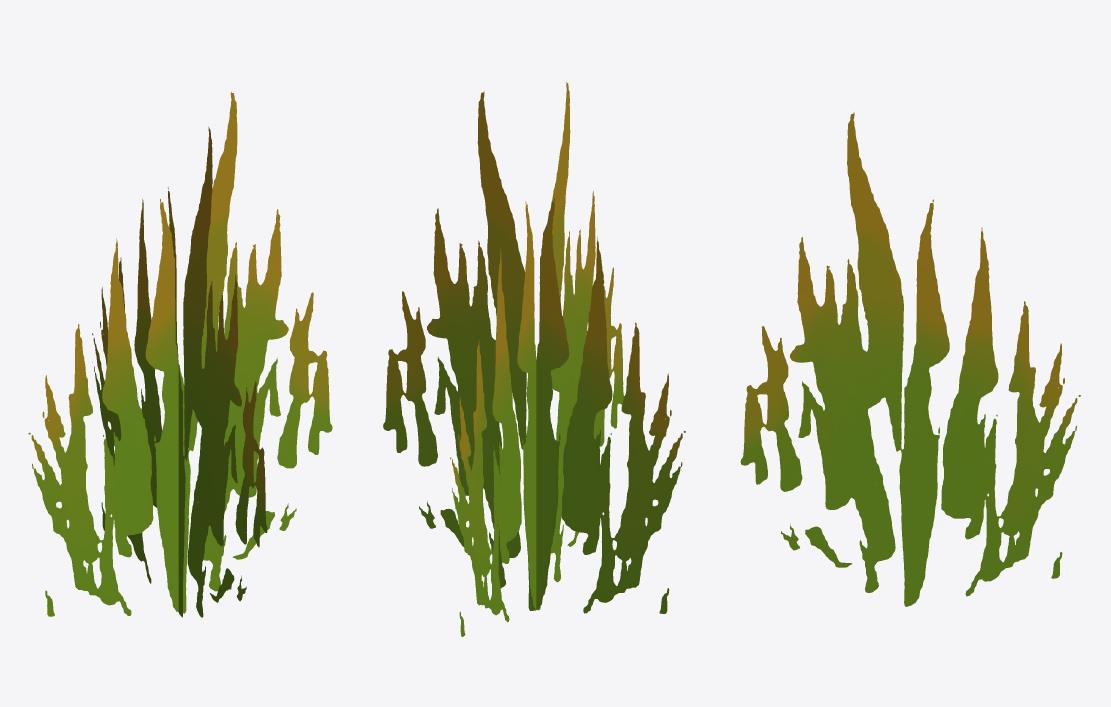
File: ForestGrass.fbx
The picture shows the model from 3 angles, left to right: view 1: azimuth 30°, elevation 25°; view 2: azimuth 150°, elevation 25°; view 3: azimuth 270°, elevation 25°; orthographic projection. The views are drawn at different scales.
Parts seen in each view (by area): view 1: Зеленый лес трава; view 2: Зеленый лес трава; view 3: Зеленый лес трава.
Boxes of the visible parts, box(x1,y1,x2,y2) form: Зеленый лес трава: box(28, 92, 332, 617); Зеленый лес трава: box(383, 81, 685, 636); Зеленый лес трава: box(740, 112, 1080, 606).
Size of the model in its own units: 47.31 by 74.72 by 47.31.
